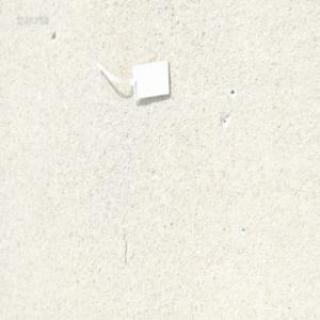LuggageTagtrack_idkeyframe: (94, 54, 170, 104)
